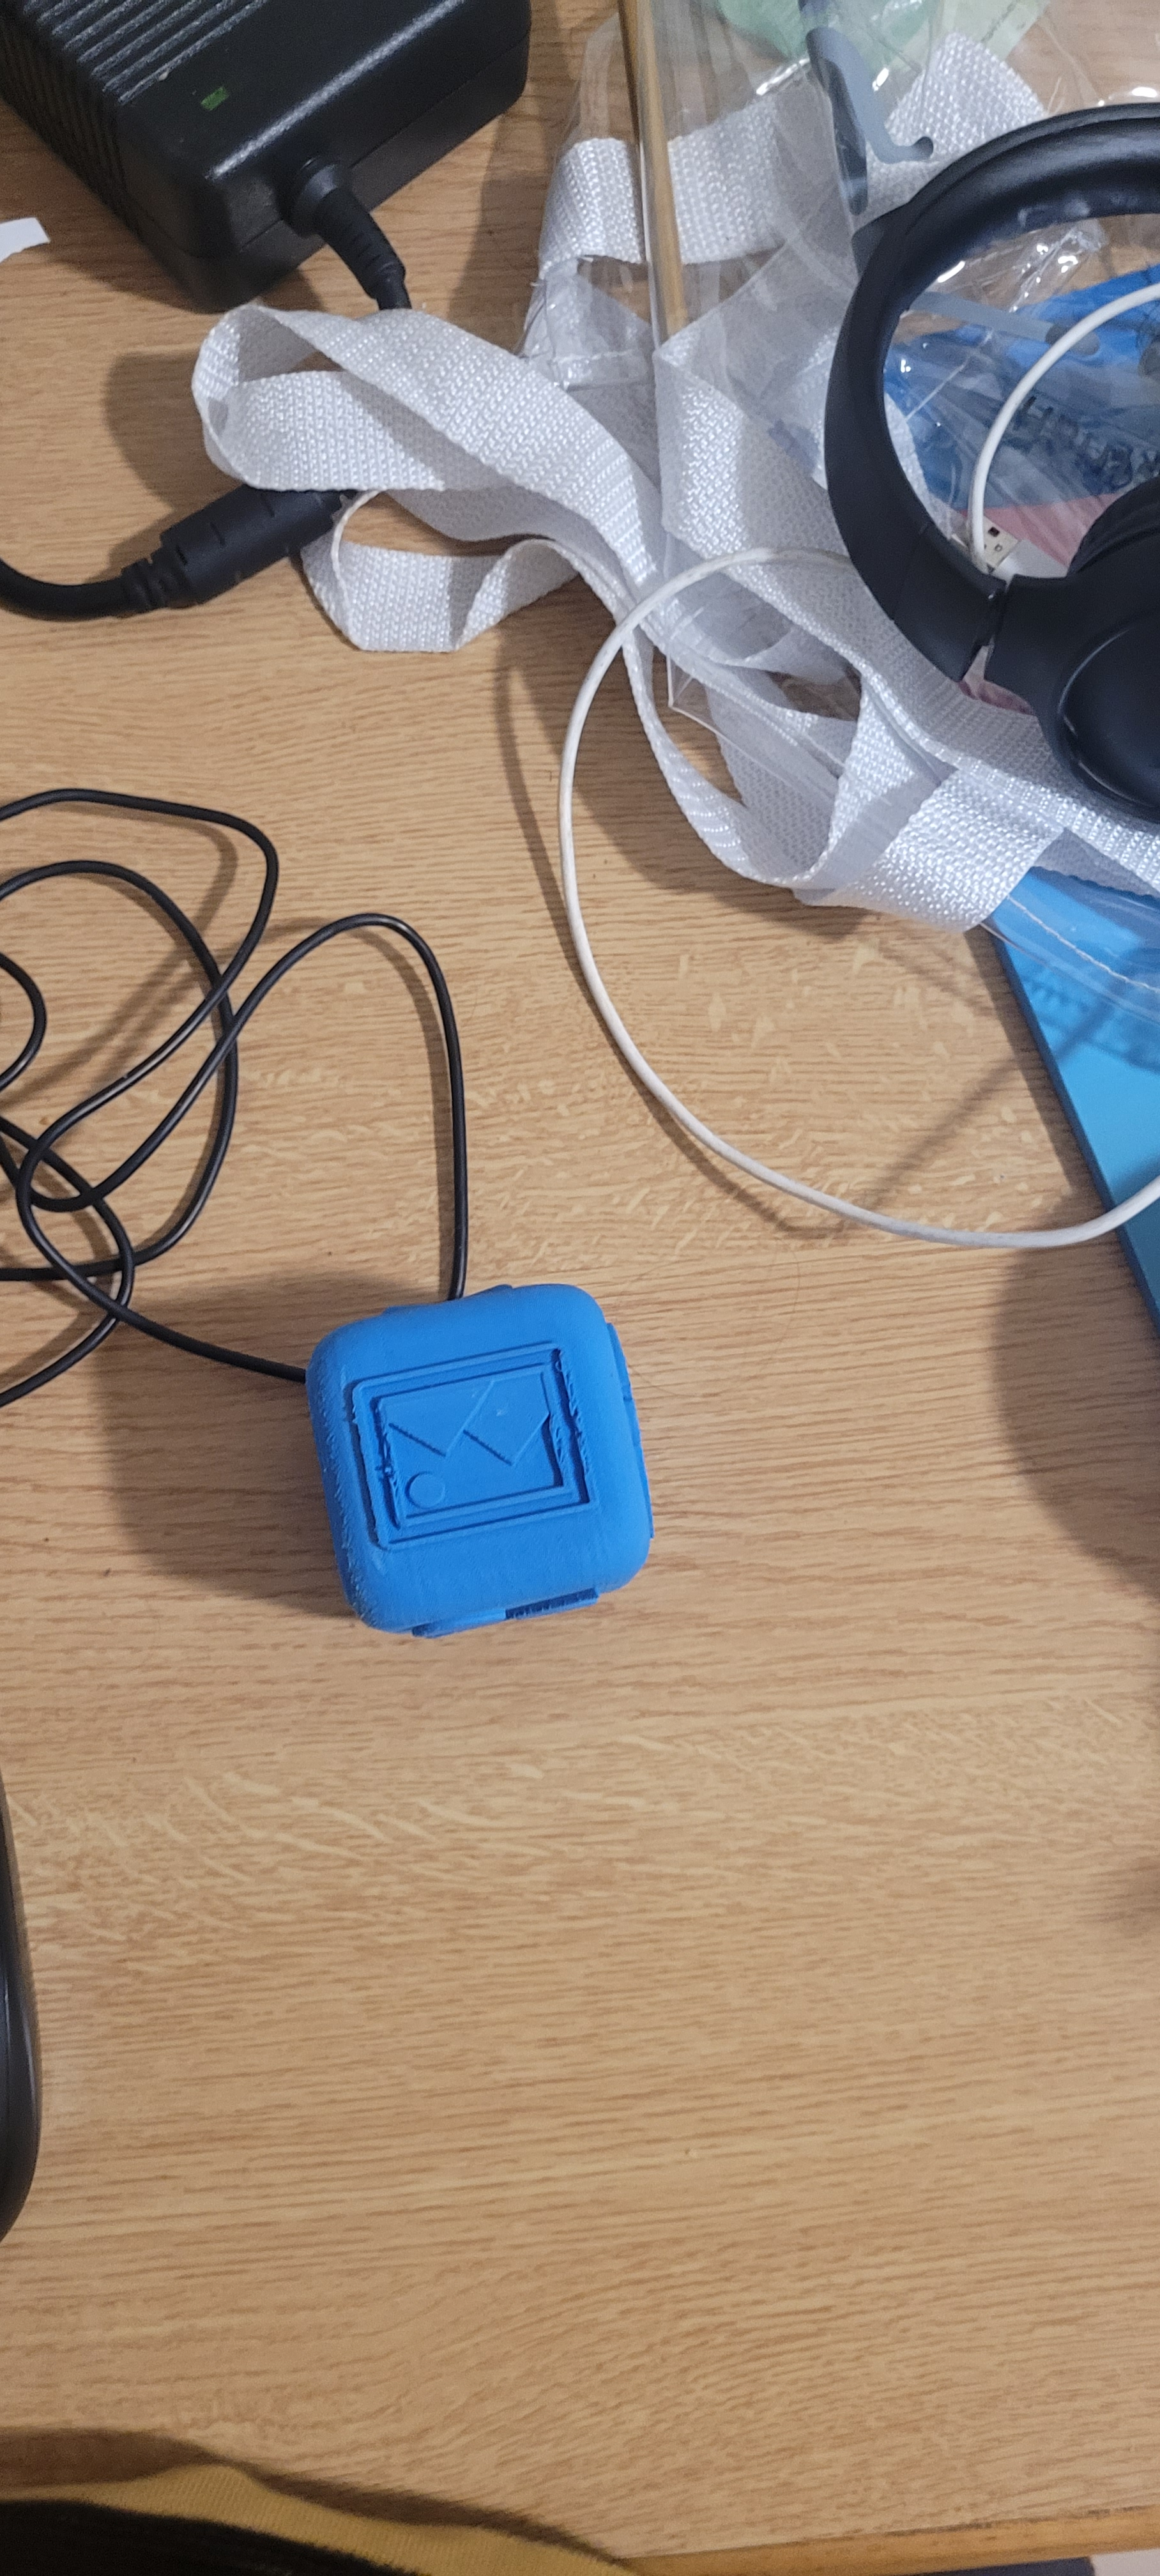Story: (327, 1360, 641, 1580)
